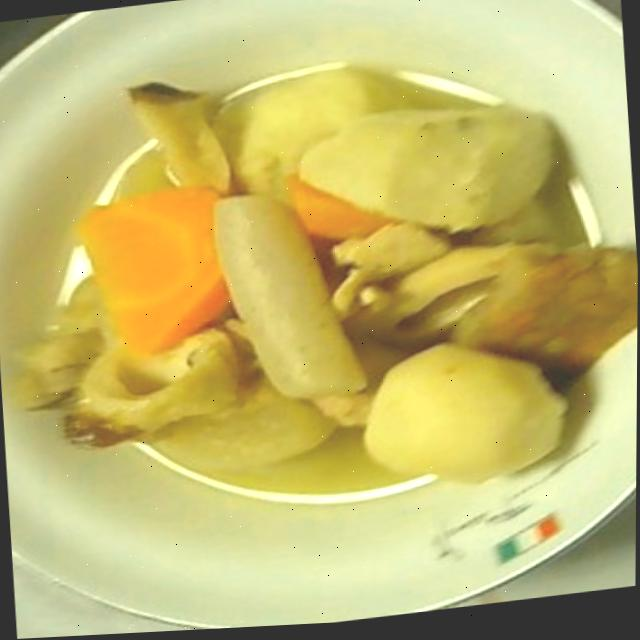鸡肉料理 含炸鸡: (19, 9, 627, 540)
